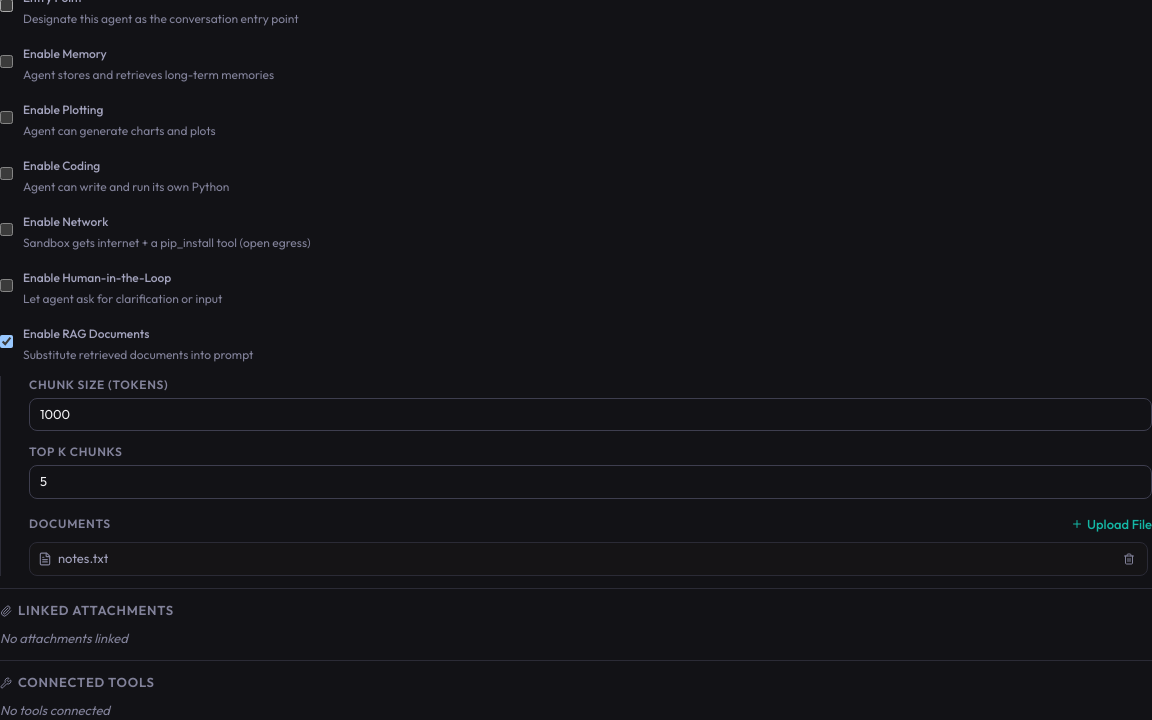
Test: AgentEditor › shows an in-app confirm dialog (not native confirm) before deleting a document, and deletes on Delete
(page scrolled)
Expected: the text "notes.txt" is shown, [58,549,108,569]
Click the button with test id "agent-delete-document-doc-1". click: x=1129, y=559
box: [1119,549,1139,569]
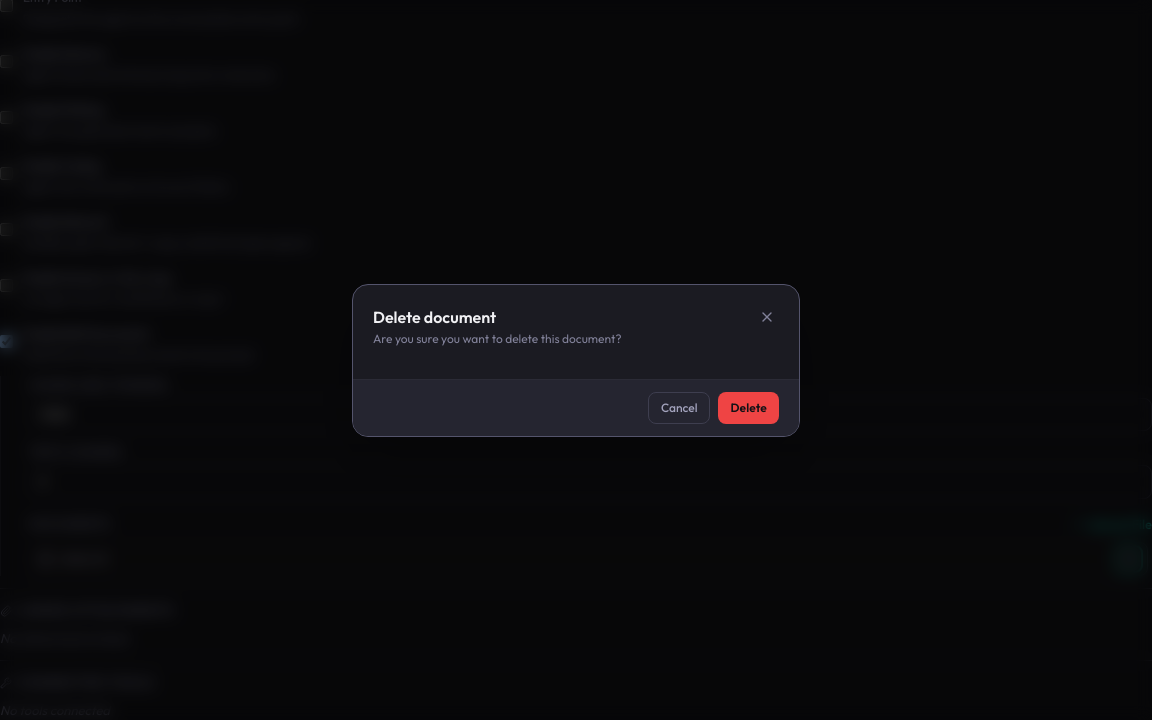
Expected: the dialog shows "Are you sure you want to delete this document?", [373,330,622,346]
Click the button "Delete". click: x=749, y=408
box: [718,392,779,424]
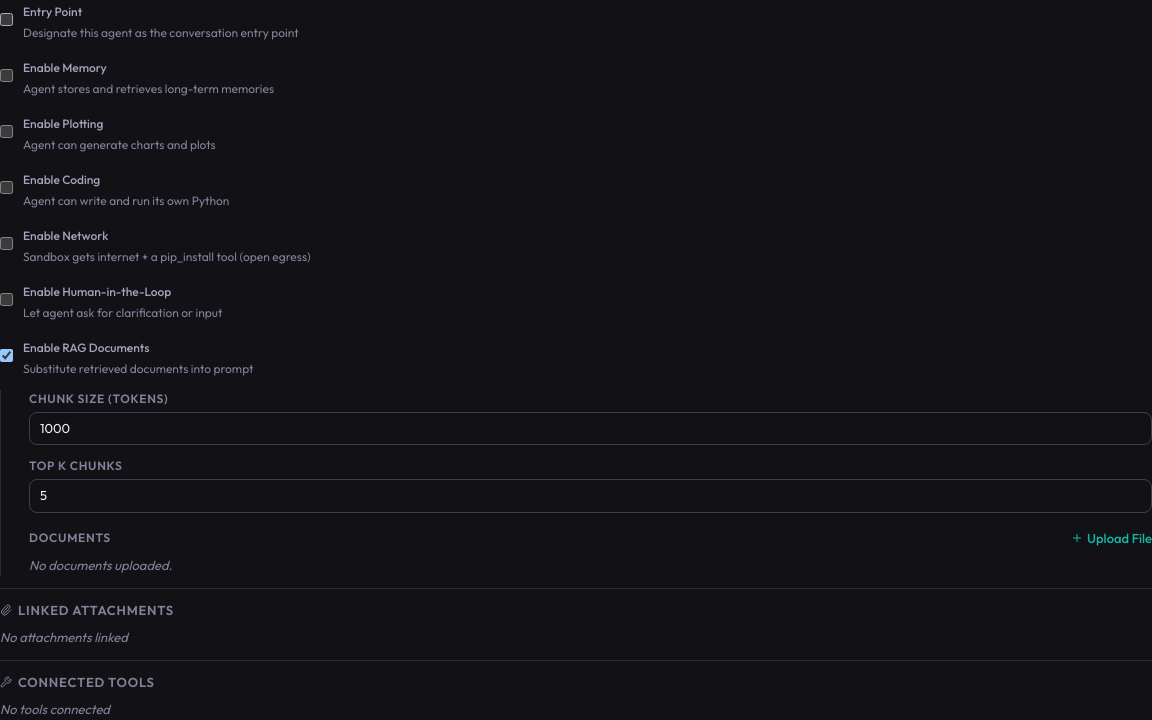
Expected: the text "notes.txt" is gone
Expected: the dialog is gone
